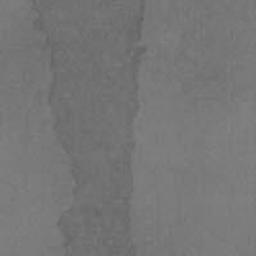Water spot: (31, 0, 147, 256)
